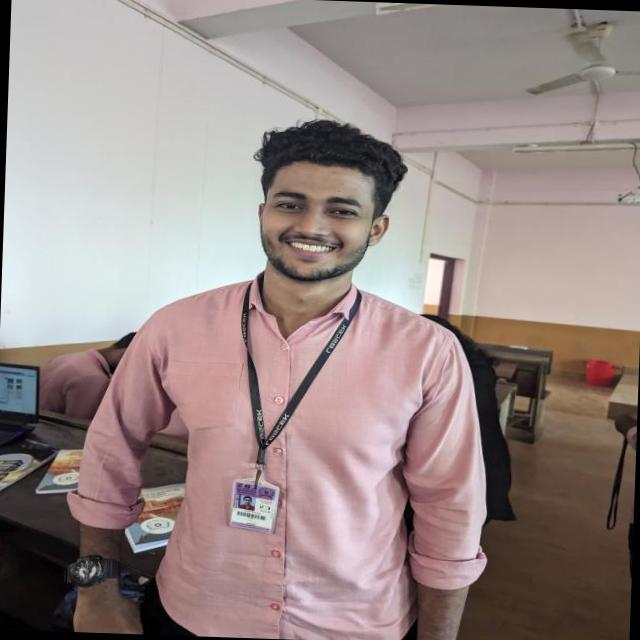id_card: (224, 284, 350, 532)
